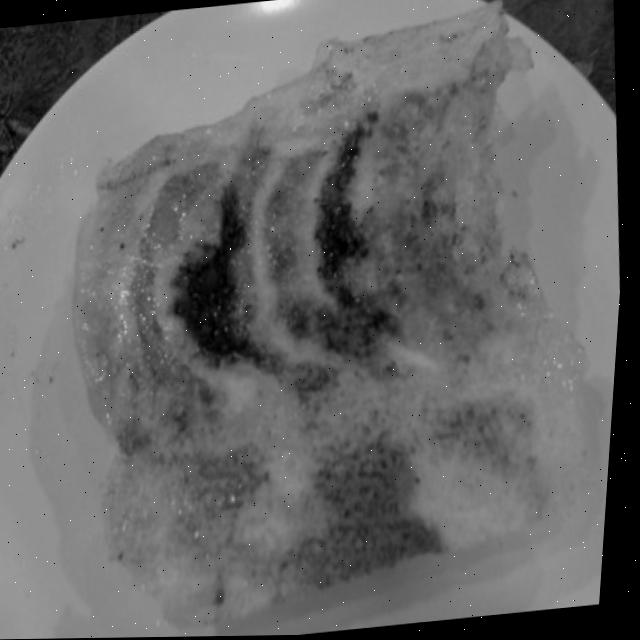带馅早点: (3, 0, 626, 640)
